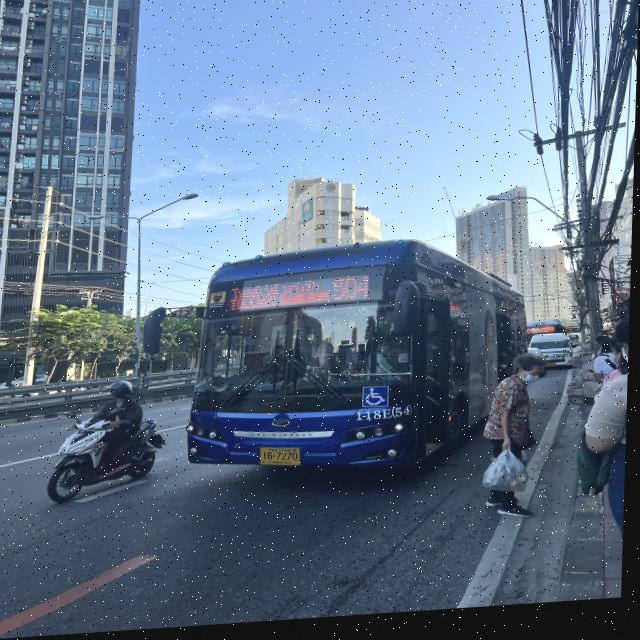Bus-Line-Number: (333, 277, 377, 307)
Destination-Sign-Normal: (231, 282, 332, 316)
TSB-Bus: (187, 240, 534, 488)
